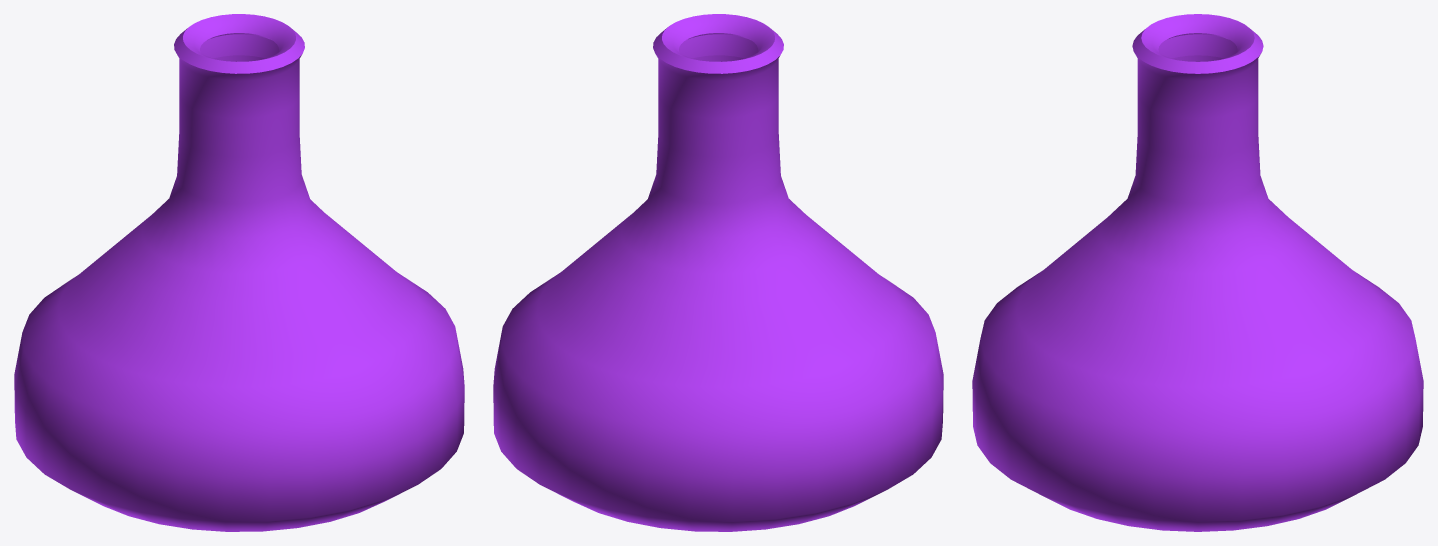
Rendered from static.glb.
3 views of the same model, side by side, from view 1: azimuth 30°, elevation 25°; view 2: azimuth 150°, elevation 25°; view 3: azimuth 270°, elevation 25° (orthographic).
Visible parts, largest first — view 1: Lathe_3; view 2: Lathe_3; view 3: Lathe_3.
Part boxes in pixels (x1,y1,x2,y2): Lathe_3: (14, 14, 464, 531); Lathe_3: (493, 14, 943, 531); Lathe_3: (972, 14, 1423, 531).
Bounding box in the file's own units: 0.6938 × 0.7088 × 0.6938.
Materials: 2 (2 with a texture image).
